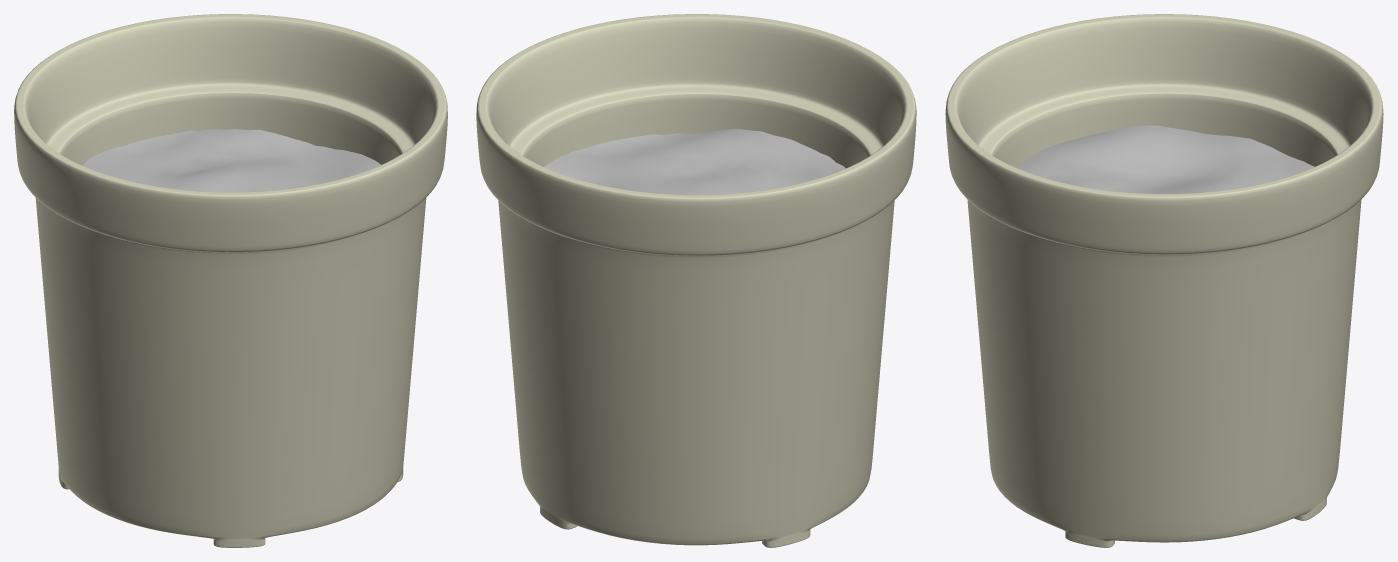
Rendered from pot-jaune-remplie_01.fbx.
3 renders of one model, left to right at view 1: azimuth 30°, elevation 25°; view 2: azimuth 150°, elevation 25°; view 3: azimuth 270°, elevation 25°, orthographic.
Visible parts, largest first — view 1: pot_remplie; view 2: pot_remplie; view 3: pot_remplie.
Boxes of the visible parts, <box> form: pot_remplie: <box>14,14,447,547</box>; pot_remplie: <box>476,14,916,547</box>; pot_remplie: <box>945,14,1383,547</box>.
Bounding box in the file's own units: 2.48 × 2.34 × 2.48.
